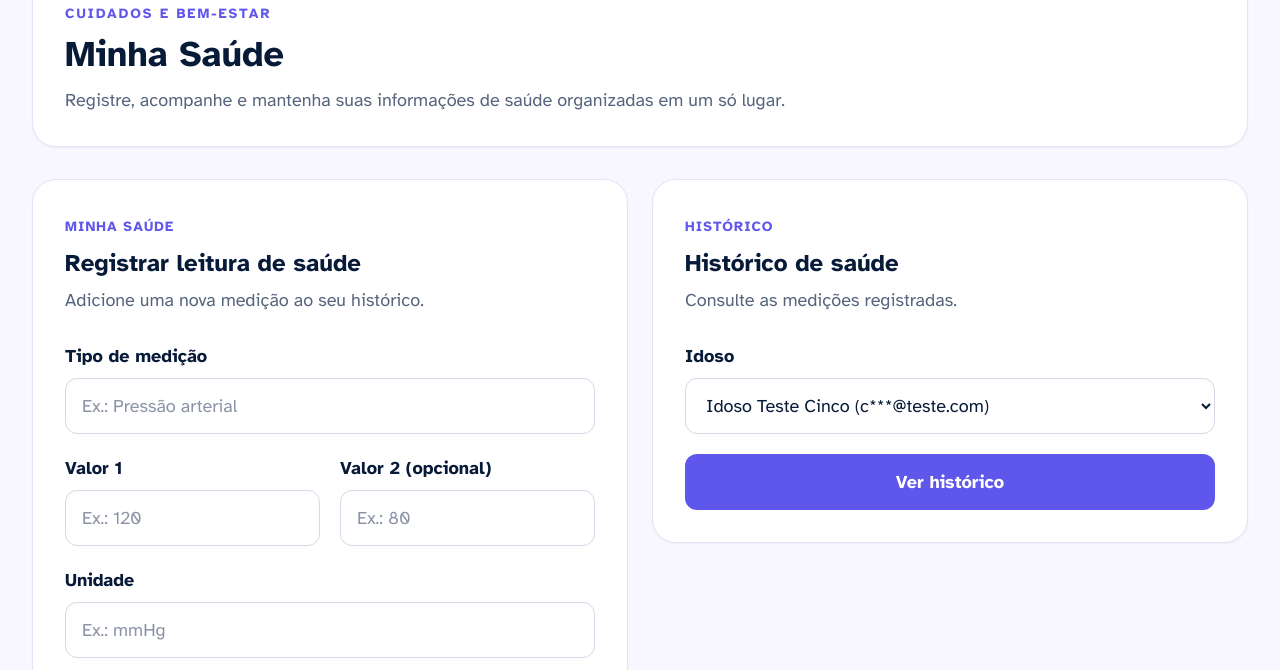
Scenario: Saude — estrutura da página › mostra as opções de edição somente após abrir o histórico e sem ícone
The image size is (1280, 670).
Expected: the button "editar meu registro" is not shown
Expected: the button "editar registro do idoso" is not shown
Select "Idoso Teste Cinco (c***@teste.com)" in the dropdown labelled "Idoso" at (950, 406), box [685, 378, 1215, 434]
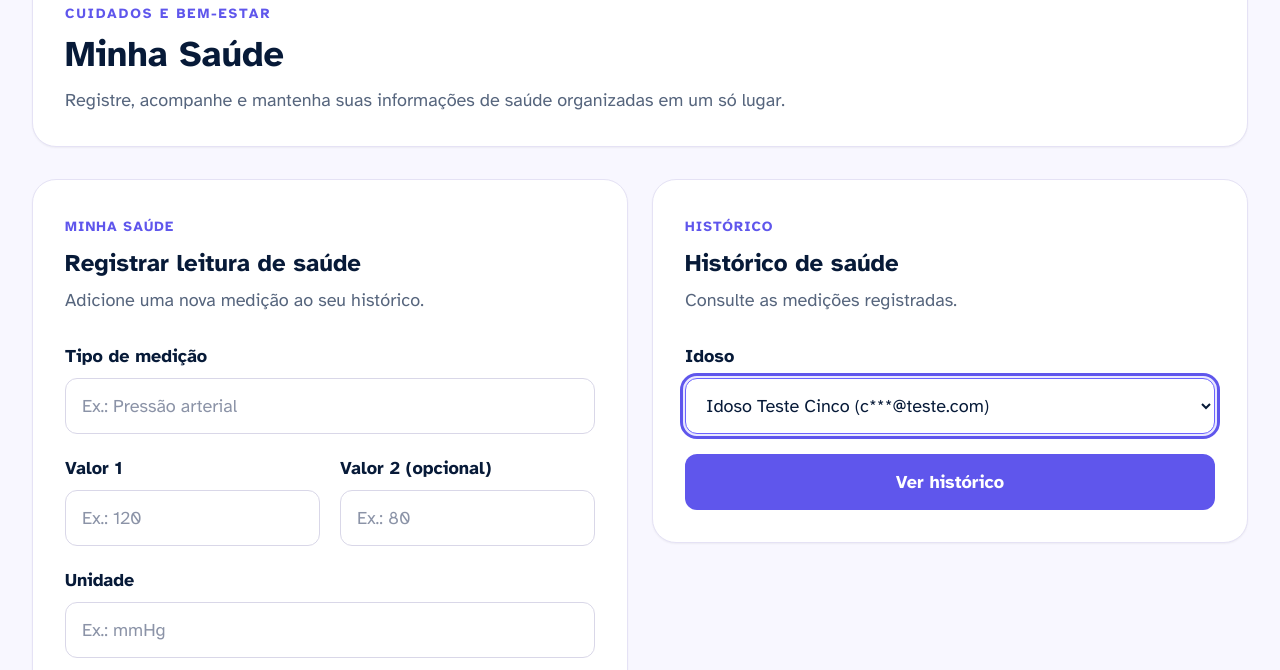
Click the button "Ver histórico" at (950, 482), box [685, 454, 1215, 510]
(page scrolled)
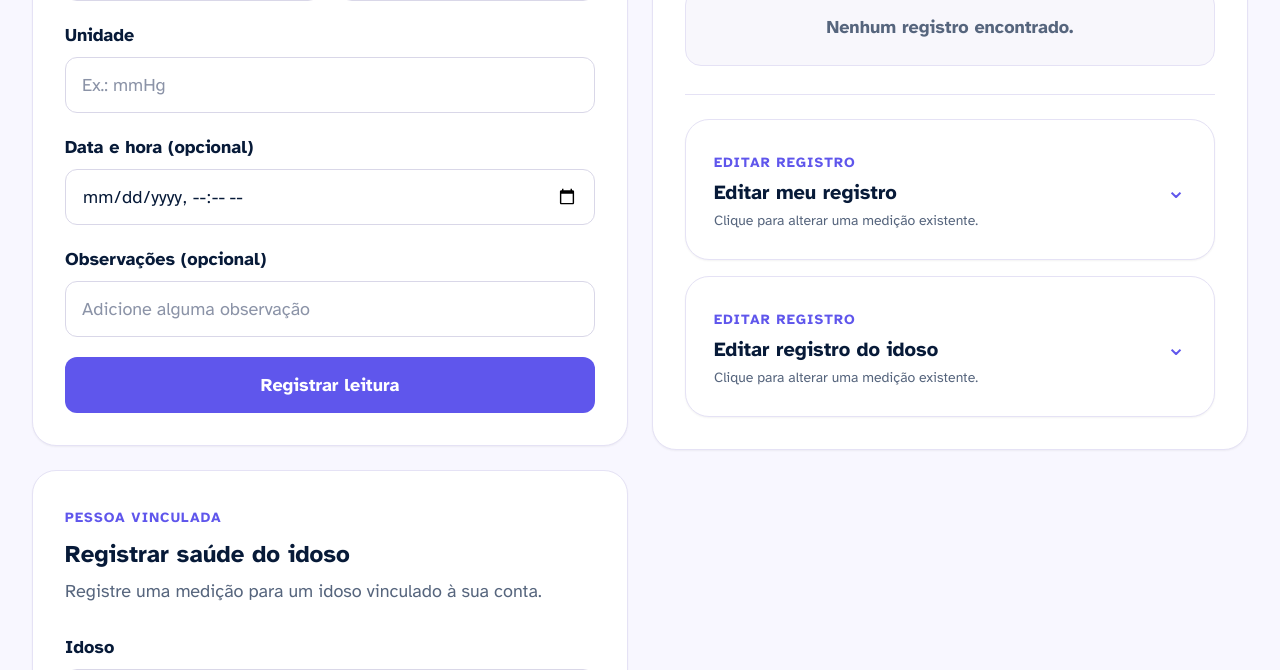
Expected: the button "Editar meu registro" is shown, [686, 120, 1214, 259]
Expected: the button "Editar registro do idoso" is shown, [686, 277, 1214, 416]
